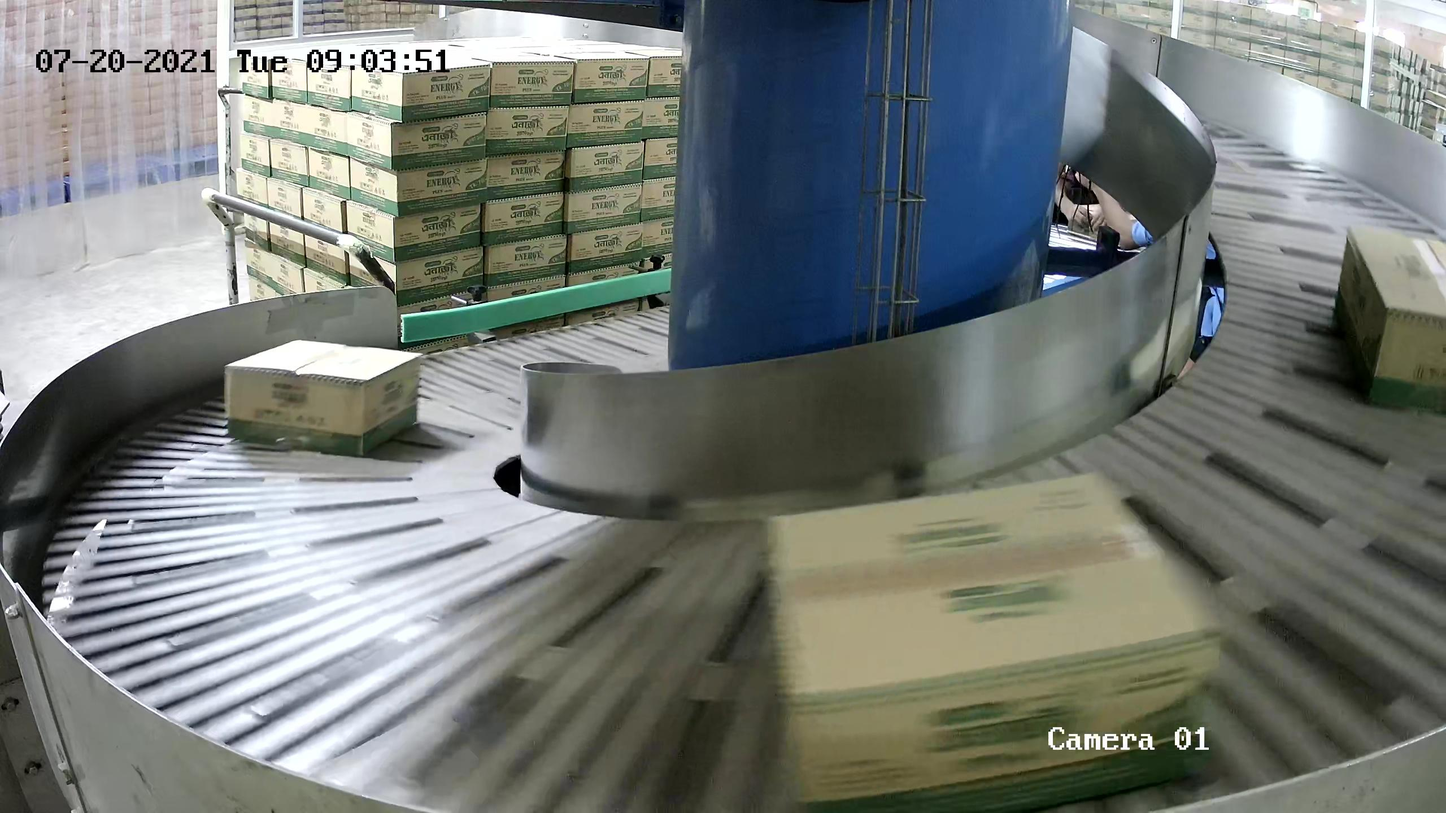Box: (767, 471, 1217, 813), (225, 340, 424, 458), (1332, 223, 1446, 418)
